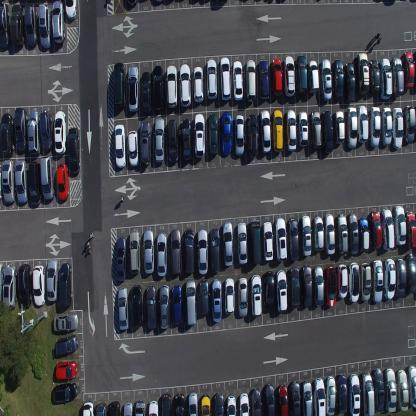car: (39, 155, 55, 201), (51, 0, 66, 45), (17, 263, 32, 308), (113, 61, 126, 110), (68, 127, 81, 176), (0, 112, 14, 157), (58, 264, 73, 306), (372, 368, 386, 413), (274, 218, 288, 262), (3, 264, 17, 308), (360, 371, 374, 415), (127, 65, 140, 112), (24, 5, 38, 48), (178, 62, 191, 108), (130, 284, 143, 330), (169, 228, 181, 277), (10, 4, 24, 46), (39, 109, 53, 151), (166, 119, 179, 164), (38, 3, 51, 48), (384, 367, 397, 412), (152, 64, 164, 112), (185, 278, 197, 326), (356, 52, 369, 96), (14, 107, 27, 151), (2, 160, 15, 204), (196, 228, 208, 275), (402, 104, 416, 144), (247, 113, 259, 159), (220, 110, 232, 156), (155, 231, 167, 277), (219, 56, 231, 102), (183, 228, 195, 274), (383, 258, 396, 300), (32, 264, 45, 306), (52, 381, 78, 402), (396, 369, 409, 411), (114, 123, 126, 168), (142, 229, 154, 274), (259, 109, 271, 154), (249, 219, 261, 264), (54, 110, 66, 155), (28, 161, 40, 206), (27, 110, 39, 155), (381, 209, 394, 250), (313, 378, 327, 416), (55, 333, 78, 356), (207, 112, 219, 156), (193, 112, 204, 160), (166, 64, 178, 108), (140, 70, 152, 114), (117, 286, 129, 330), (128, 230, 140, 274), (336, 213, 348, 257), (287, 217, 299, 261), (250, 274, 262, 318), (15, 160, 27, 204), (46, 258, 58, 302), (348, 372, 360, 416), (258, 58, 270, 101), (320, 58, 332, 101), (380, 57, 392, 100), (392, 106, 404, 149), (236, 223, 248, 266), (391, 56, 404, 95), (56, 163, 69, 202), (115, 236, 126, 282), (159, 284, 170, 330), (322, 108, 333, 154), (210, 228, 221, 274), (222, 221, 233, 267), (171, 284, 183, 326), (283, 56, 295, 98), (347, 212, 359, 254), (323, 213, 335, 255), (276, 270, 288, 312), (245, 58, 256, 103), (140, 120, 151, 165), (146, 285, 157, 330), (301, 263, 312, 308), (211, 278, 222, 323), (369, 211, 382, 249), (270, 57, 282, 98), (368, 106, 380, 147), (310, 109, 322, 150), (394, 205, 406, 246), (300, 215, 312, 256), (288, 267, 300, 308), (262, 221, 274, 262), (206, 57, 217, 101), (325, 264, 336, 308), (264, 270, 275, 314), (55, 360, 78, 381), (360, 262, 372, 302), (348, 262, 360, 302), (336, 374, 348, 414), (53, 313, 78, 332), (180, 119, 191, 162), (272, 109, 283, 152), (346, 106, 357, 149), (405, 252, 416, 295), (372, 260, 383, 303), (0, 2, 10, 49), (356, 104, 368, 143), (237, 276, 248, 318), (154, 118, 164, 164), (127, 129, 139, 167), (232, 60, 243, 101), (296, 55, 307, 96), (332, 58, 343, 99), (344, 61, 355, 102), (313, 266, 324, 307), (402, 51, 414, 88), (312, 215, 324, 252), (234, 113, 244, 157), (286, 108, 296, 152), (395, 258, 406, 298), (289, 380, 301, 416), (406, 365, 416, 408), (381, 106, 392, 145), (199, 278, 210, 317), (263, 382, 276, 415), (192, 66, 203, 104), (326, 374, 336, 415), (358, 217, 370, 251), (336, 264, 348, 298), (308, 58, 319, 95), (369, 59, 380, 96), (224, 278, 235, 315), (405, 210, 415, 249), (334, 109, 345, 144), (302, 380, 313, 415), (276, 383, 288, 415), (298, 110, 308, 148), (251, 388, 262, 415), (238, 392, 250, 415), (160, 394, 172, 416), (213, 392, 224, 415), (174, 393, 185, 415), (200, 394, 211, 416), (65, 0, 77, 20), (188, 392, 198, 416), (226, 394, 237, 415), (134, 400, 146, 416), (82, 401, 95, 415), (108, 401, 121, 415), (0, 261, 4, 304), (148, 400, 159, 415), (96, 402, 107, 416), (123, 402, 133, 416), (126, 0, 137, 8), (0, 163, 2, 200)
